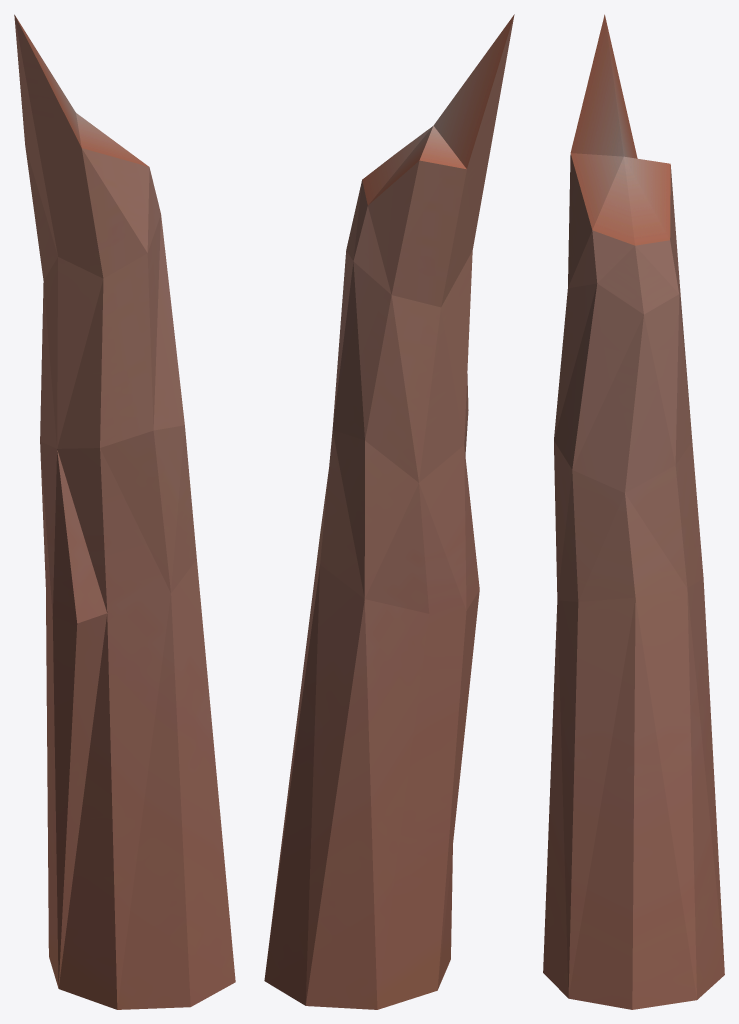
3 renders of one model, left to right at view 1: azimuth 30°, elevation 25°; view 2: azimuth 150°, elevation 25°; view 3: azimuth 270°, elevation 25°, orthographic. The views are drawn at different scales.
Parts seen in each view (by area): view 1: PalmDead1; view 2: PalmDead1; view 3: PalmDead1.
Part boxes in pixels (bbox=[...]): PalmDead1: bbox=[14, 14, 235, 1009]; PalmDead1: bbox=[264, 14, 514, 1009]; PalmDead1: bbox=[543, 14, 724, 1009].
Size of the model in its own units: 1.19 by 5.01 by 0.92.
1 material, 1 textured.
